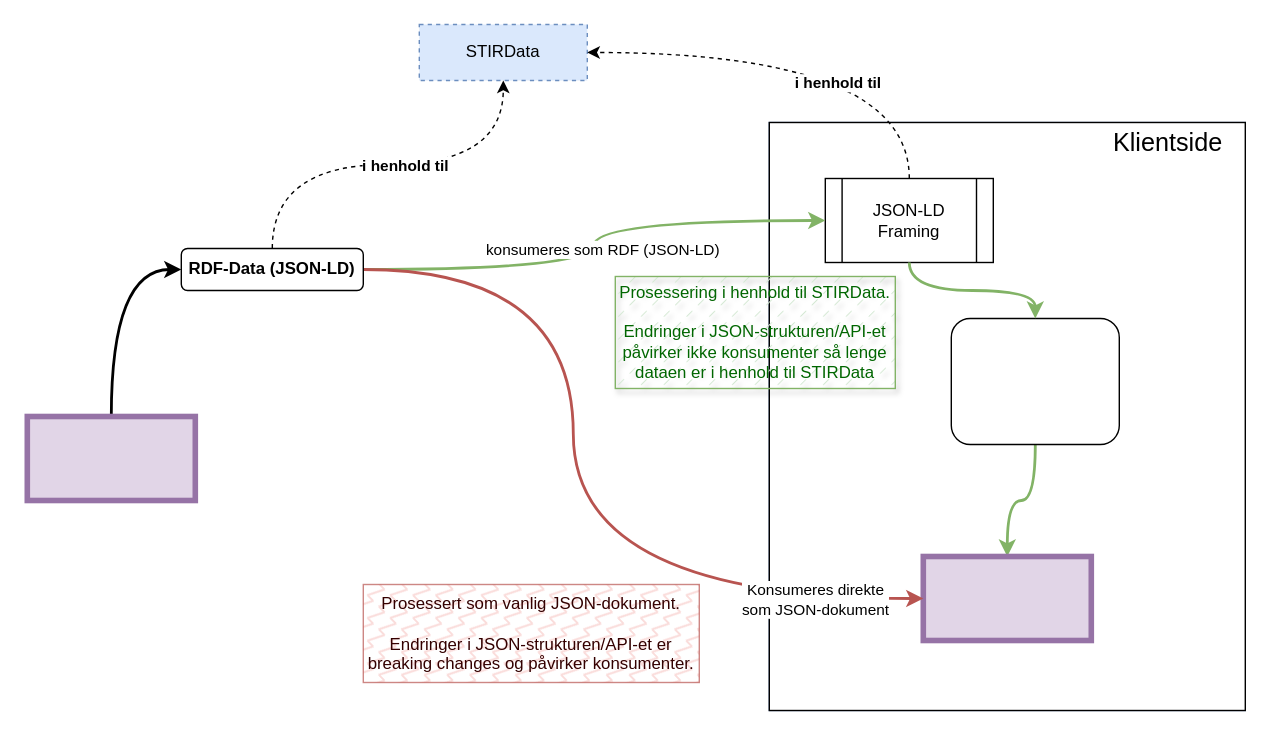
Some shapes in this 1270 by 735 pixel diagram are drawn without their labels. The centre of each missing label's shape, as x and y in pixels:
"Data (JSON-LD) Strukturert etter klients ønske. Kan parses som vanlig JSON" belongs at (1034,380).
"Enhetsregisteret" belongs at (110,458).
"Konsument" belongs at (1006,598).
